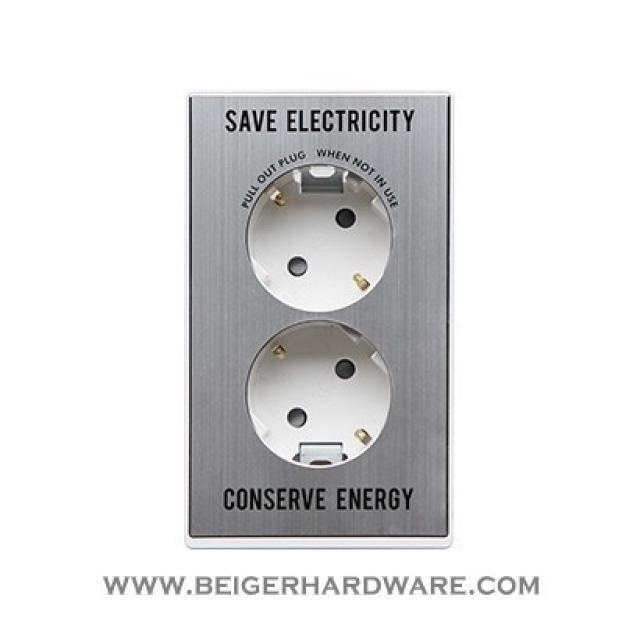typeb: (170, 73, 482, 558)
